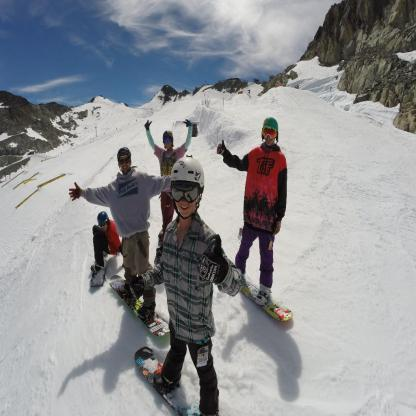Helmet: (168, 153, 202, 225), (261, 117, 282, 152), (114, 146, 136, 171), (96, 210, 110, 230), (163, 130, 174, 146)
